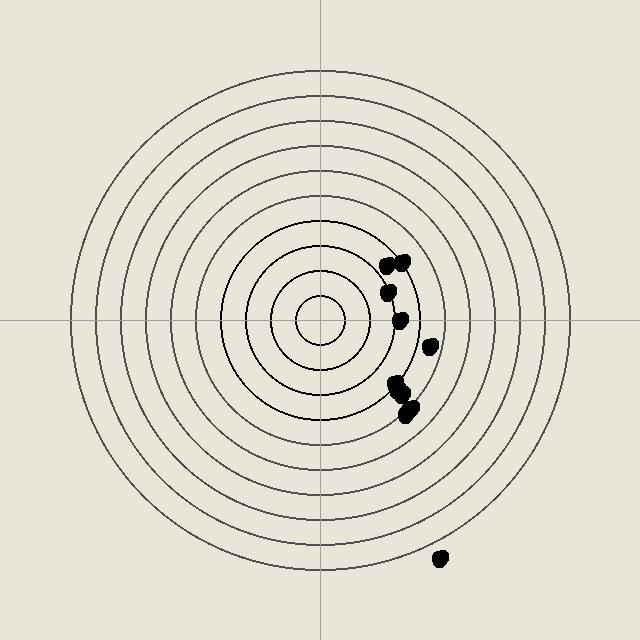vertical_scatter: (398, 400, 418, 420), (389, 310, 409, 330), (429, 548, 449, 568), (386, 379, 406, 399), (376, 255, 396, 275), (391, 384, 411, 404), (395, 404, 415, 424), (377, 282, 397, 302), (400, 398, 420, 418), (391, 252, 411, 272), (384, 373, 404, 393), (419, 336, 439, 356)
